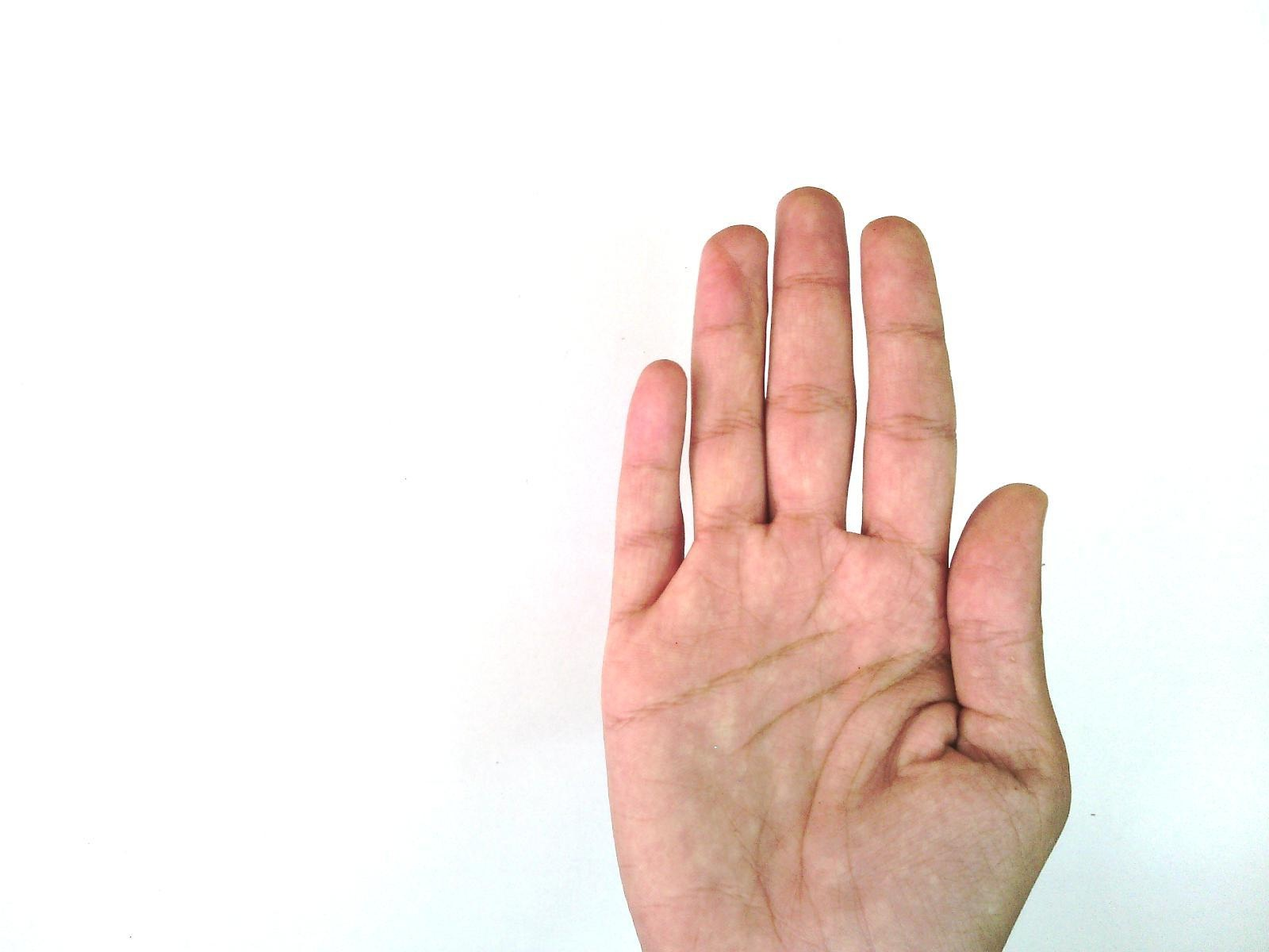open_palm: (596, 186, 1075, 952)
